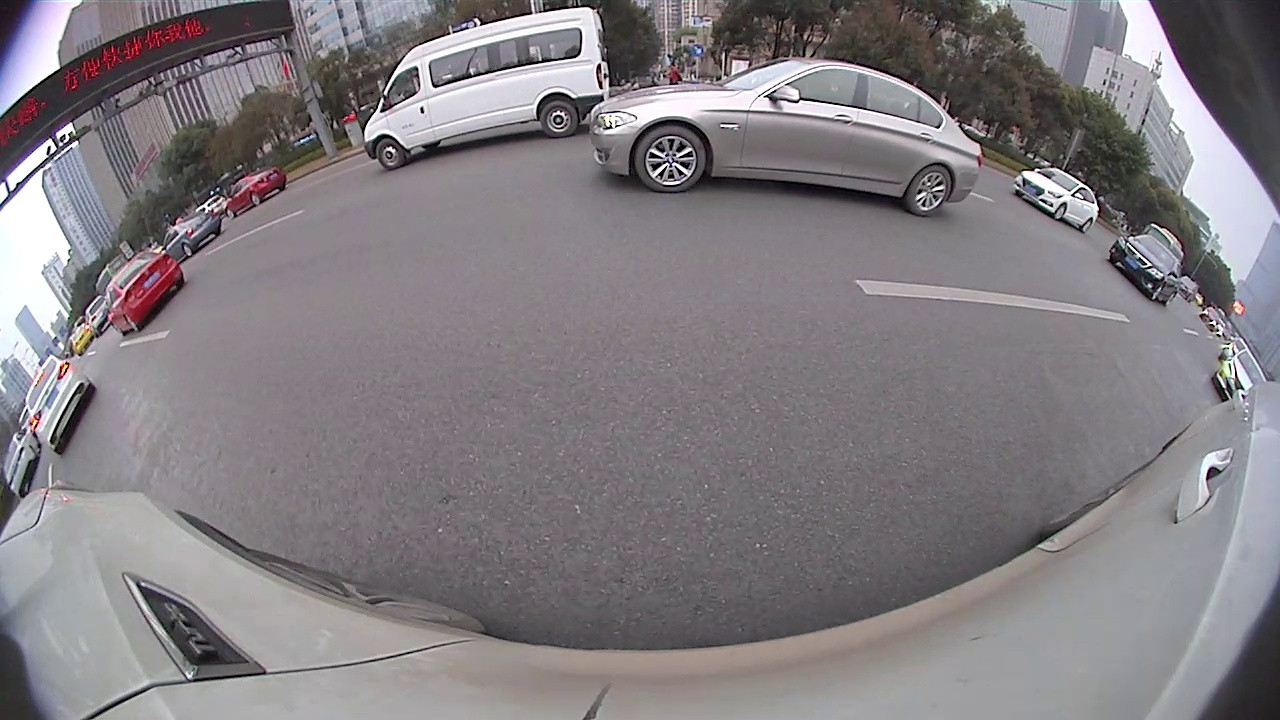car: (593, 59, 981, 216), (363, 8, 608, 171), (23, 359, 95, 452), (108, 251, 184, 333), (1013, 168, 1097, 233), (1109, 235, 1183, 306), (162, 207, 224, 254), (1211, 349, 1264, 403), (223, 171, 287, 215)
front: (634, 122, 709, 195), (376, 136, 408, 170), (1052, 203, 1067, 221)
rear: (907, 166, 953, 215), (540, 98, 581, 139), (1083, 217, 1095, 232), (183, 245, 194, 258), (252, 193, 260, 205)
